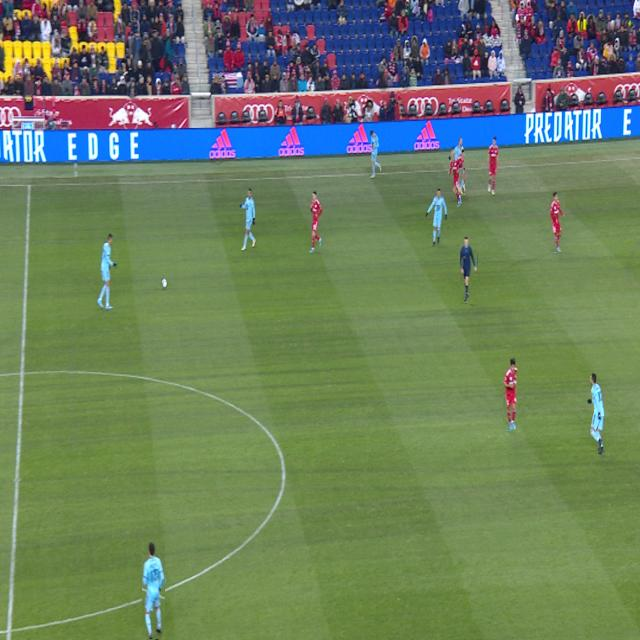football: (162, 278, 167, 288)
player: (143, 543, 165, 639), (97, 234, 117, 310), (588, 373, 604, 454), (426, 189, 447, 246), (503, 359, 518, 430), (240, 188, 256, 250), (550, 193, 565, 252), (448, 150, 463, 206), (309, 191, 322, 252), (487, 137, 499, 194), (370, 130, 382, 178), (452, 138, 464, 162), (459, 169, 465, 195), (458, 184, 460, 193), (449, 156, 451, 160)
referee: (460, 237, 477, 304)
